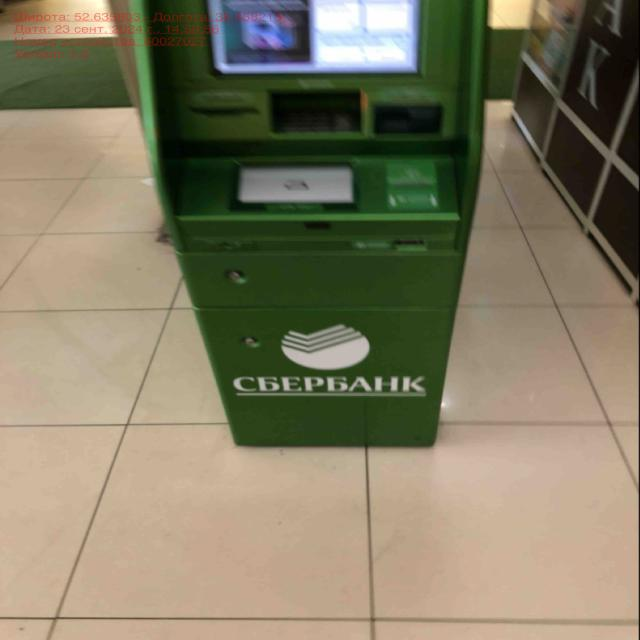bank: (132, 0, 490, 449)
